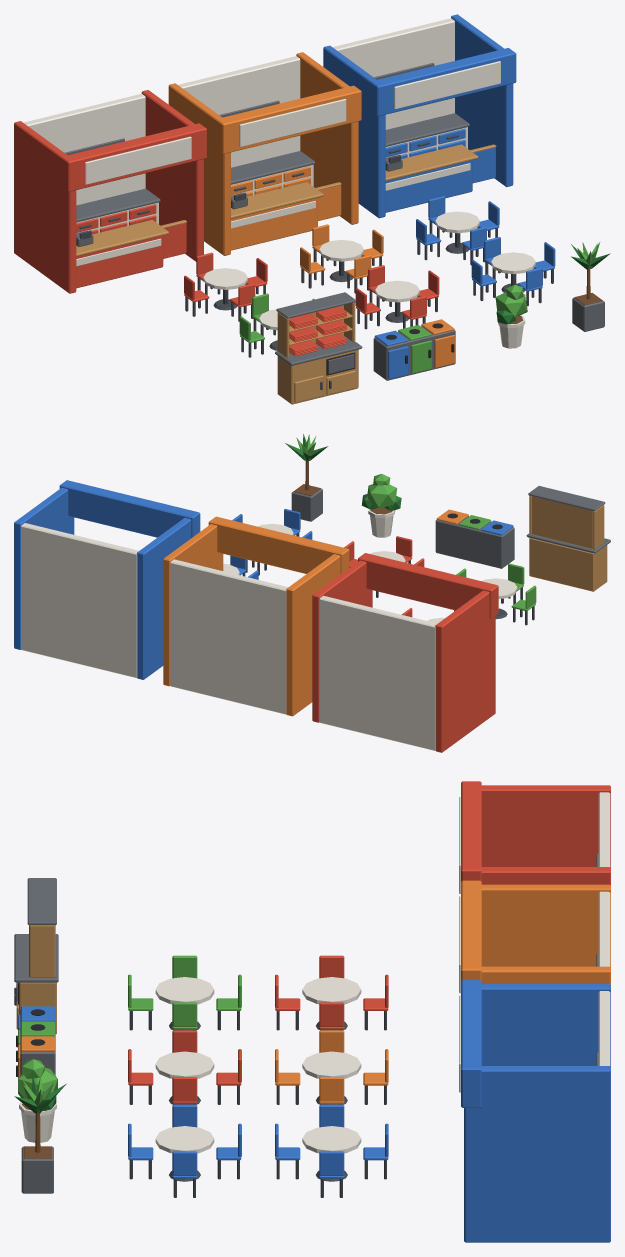
The model's file is mall-food-court-set.glb.
3 renders of one model, top to bottom at view 1: azimuth 30°, elevation 25°; view 2: azimuth 150°, elevation 25°; view 3: azimuth 270°, elevation 25°, orthographic. The views are drawn at different scales.
Parts seen in each view (by area): view 1: FoodCounter_Red, FoodCounter_Blue, FoodCounter_Orange, TrayReturn, RecyclingBin, DiningSet_2, DiningSet_5, DiningSet_1, DiningSet_3, DiningSet_6, PottedPlant_Palm, PottedPlant_Bush (+6 smaller); view 2: FoodCounter_Red, FoodCounter_Blue, FoodCounter_Orange, TrayReturn, RecyclingBin, PottedPlant_Bush, PottedPlant_Palm, DiningSet_4, DiningSet_5, DiningSet_6; view 3: FoodCounter_Blue, FoodCounter_Orange, FoodCounter_Red, TrayReturn, DiningSet_3, DiningSet_6, DiningSet_5, DiningSet_2, DiningSet_4, DiningSet_1, PottedPlant_Palm, RecyclingBin (+1 smaller).
Part boxes in pixels (box(x1,y1,x2,y2)): FoodCounter_Red: box(14, 90, 206, 293); FoodCounter_Blue: box(323, 14, 516, 218); FoodCounter_Orange: box(168, 52, 361, 255); TrayReturn: box(275, 292, 362, 404); RecyclingBin: box(373, 319, 455, 380); DiningSet_2: box(300, 224, 383, 293); DiningSet_5: box(355, 265, 439, 329); DiningSet_1: box(184, 252, 267, 321); DiningSet_3: box(416, 196, 499, 265); DiningSet_6: box(471, 237, 555, 306); PottedPlant_Palm: box(571, 242, 610, 331); PottedPlant_Bush: box(495, 284, 527, 348); FoodCounter_Red: box(312, 553, 498, 752); FoodCounter_Blue: box(14, 480, 200, 679); FoodCounter_Orange: box(163, 516, 349, 716); TrayReturn: box(526, 486, 610, 591); RecyclingBin: box(435, 509, 514, 568); PottedPlant_Bush: box(361, 473, 401, 537); PottedPlant_Palm: box(285, 434, 328, 521); DiningSet_4: box(456, 563, 536, 625); DiningSet_5: box(344, 536, 424, 597); DiningSet_6: box(232, 509, 312, 575); FoodCounter_Blue: box(459, 980, 610, 1242); FoodCounter_Orange: box(459, 880, 610, 993); FoodCounter_Red: box(459, 781, 610, 893); TrayReturn: box(14, 878, 58, 1033); DiningSet_3: box(275, 1104, 388, 1197); DiningSet_6: box(128, 1104, 241, 1197); DiningSet_5: box(128, 1030, 241, 1104); DiningSet_2: box(275, 1030, 388, 1104); DiningSet_4: box(128, 955, 241, 1030); DiningSet_1: box(275, 955, 388, 1030); PottedPlant_Palm: box(14, 1075, 66, 1193); RecyclingBin: box(16, 1006, 55, 1078).
Size of the model in its own units: 46.4 by 13.2 by 40.63.
